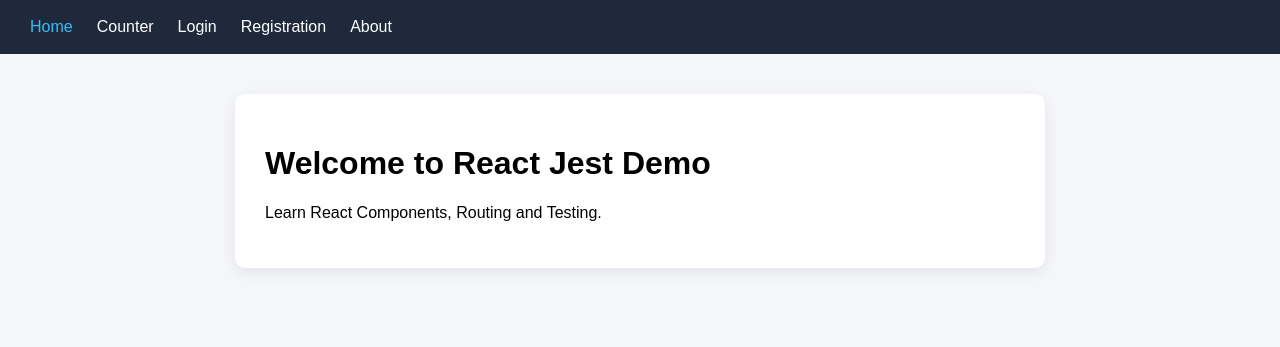
Test: Application Routing › navigates to Counter page
The width and height of the screenshot is (1280, 347).
Click the link "Counter".
click(125, 27)  # box [97,18,154,36]
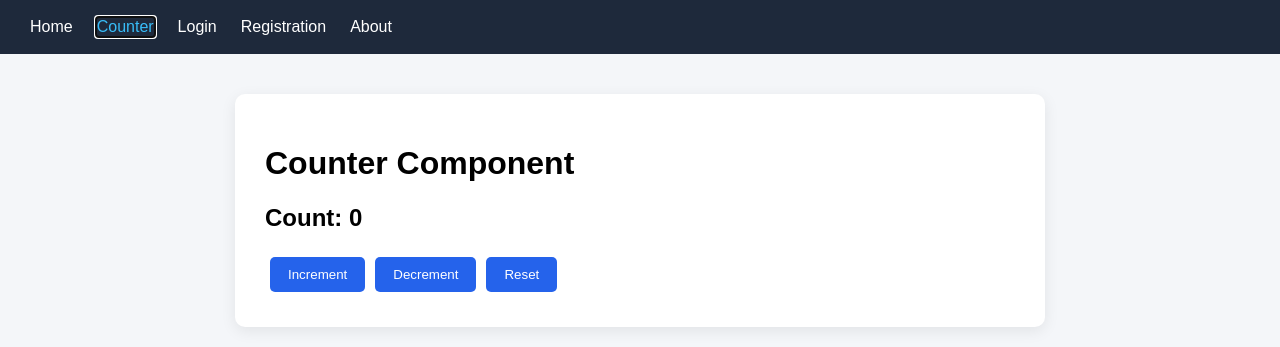
expect the heading "Counter Component" is shown: met, box [265,145,574,181]
